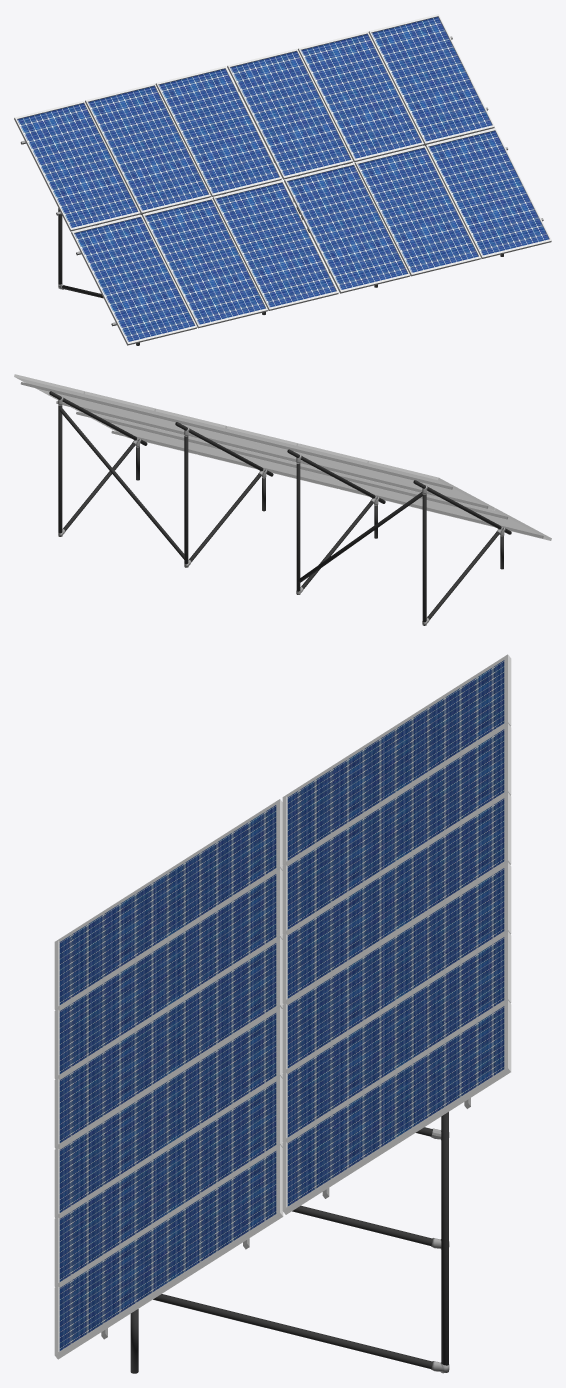
File: solar.glb
The picture shows the model from 3 angles, top to bottom: view 1: azimuth 30°, elevation 25°; view 2: azimuth 150°, elevation 25°; view 3: azimuth 270°, elevation 25°; orthographic projection. The views are drawn at different scales.
Visible parts, largest first — view 1: pv.011_6, pv.006_11, pv_0, pv.001_1, pv.002_2, pv.005_3, pv.004_4, pv.010_7, pv.008_9, pv.003_5, pv.009_8, pv.007_10; view 2: Cube.003_18, Cube.001_16, Cube.002_17, Cube_15, pv.011_6, pv.010_7, pv_0, pv.001_1, pv.002_2, pv.009_8, pv.006_11, pv.005_3 (+18 smaller); view 3: pv.002_2, pv.003_5, pv.009_8, pv.008_9, pv_0, pv.011_6, pv.001_1, pv.010_7, pv.007_10, pv.004_4, pv.006_11, pv.005_3 (+3 smaller).
Part boxes in pixels (<box>): pv.011_6: <box>14,100,140,231</box>; pv.006_11: <box>71,214,197,345</box>; pv_0: <box>227,48,353,179</box>; pv.001_1: <box>298,31,423,162</box>; pv.002_2: <box>368,14,494,144</box>; pv.005_3: <box>284,162,410,293</box>; pv.004_4: <box>354,145,480,276</box>; pv.010_7: <box>85,83,210,214</box>; pv.008_9: <box>212,180,338,310</box>; pv.003_5: <box>425,128,551,258</box>; pv.009_8: <box>155,66,281,196</box>; pv.007_10: <box>142,197,267,328</box>; Cube.003_18: <box>20,382,452,489</box>; Cube.001_16: <box>76,412,508,519</box>; Cube.002_17: <box>111,430,543,538</box>; Cube_15: <box>56,401,488,508</box>; pv.011_6: <box>368,460,494,510</box>; pv.010_7: <box>297,443,414,488</box>; pv_0: <box>155,408,272,453</box>; pv.001_1: <box>85,391,190,433</box>; pv.002_2: <box>14,374,130,418</box>; pv.009_8: <box>227,426,343,470</box>; pv.006_11: <box>426,494,551,540</box>; pv.005_3: <box>216,442,337,488</box>; pv.002_2: <box>282,1000,511,1214</box>; pv.003_5: <box>54,1145,283,1359</box>; pv.009_8: <box>282,792,511,1003</box>; pv.008_9: <box>54,937,283,1148</box>; pv_0: <box>282,862,511,1073</box>; pv.011_6: <box>282,654,511,865</box>; pv.001_1: <box>282,931,511,1142</box>; pv.010_7: <box>282,723,511,934</box>; pv.007_10: <box>54,868,282,1079</box>; pv.004_4: <box>54,1076,282,1286</box>; pv.006_11: <box>54,799,282,1010</box>; pv.005_3: <box>54,1007,282,1217</box>.
Bounding box in the file's own units: 6.15 × 2.27 × 2.82.
31 materials, 12 textured.
